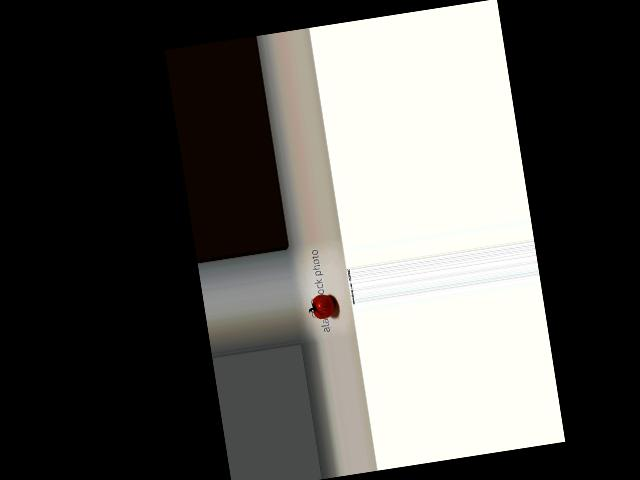tomato: (310, 292, 336, 320)
